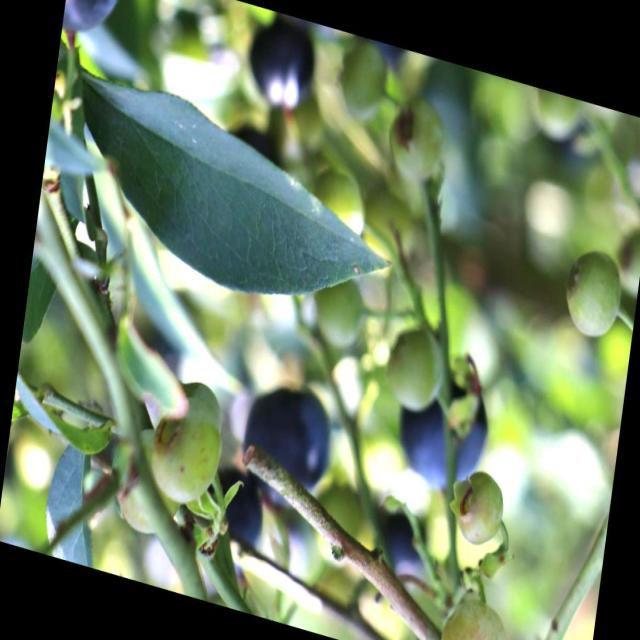blueberry: (236, 370, 340, 522), (386, 357, 496, 499), (188, 453, 266, 559), (241, 13, 314, 115), (368, 500, 433, 596), (61, 0, 124, 46)
blueberry-unripe: (142, 400, 226, 508), (377, 318, 449, 419), (559, 241, 625, 344), (382, 89, 447, 182), (446, 459, 510, 553), (304, 158, 370, 236), (308, 272, 366, 354), (333, 39, 388, 122), (435, 591, 512, 639)
